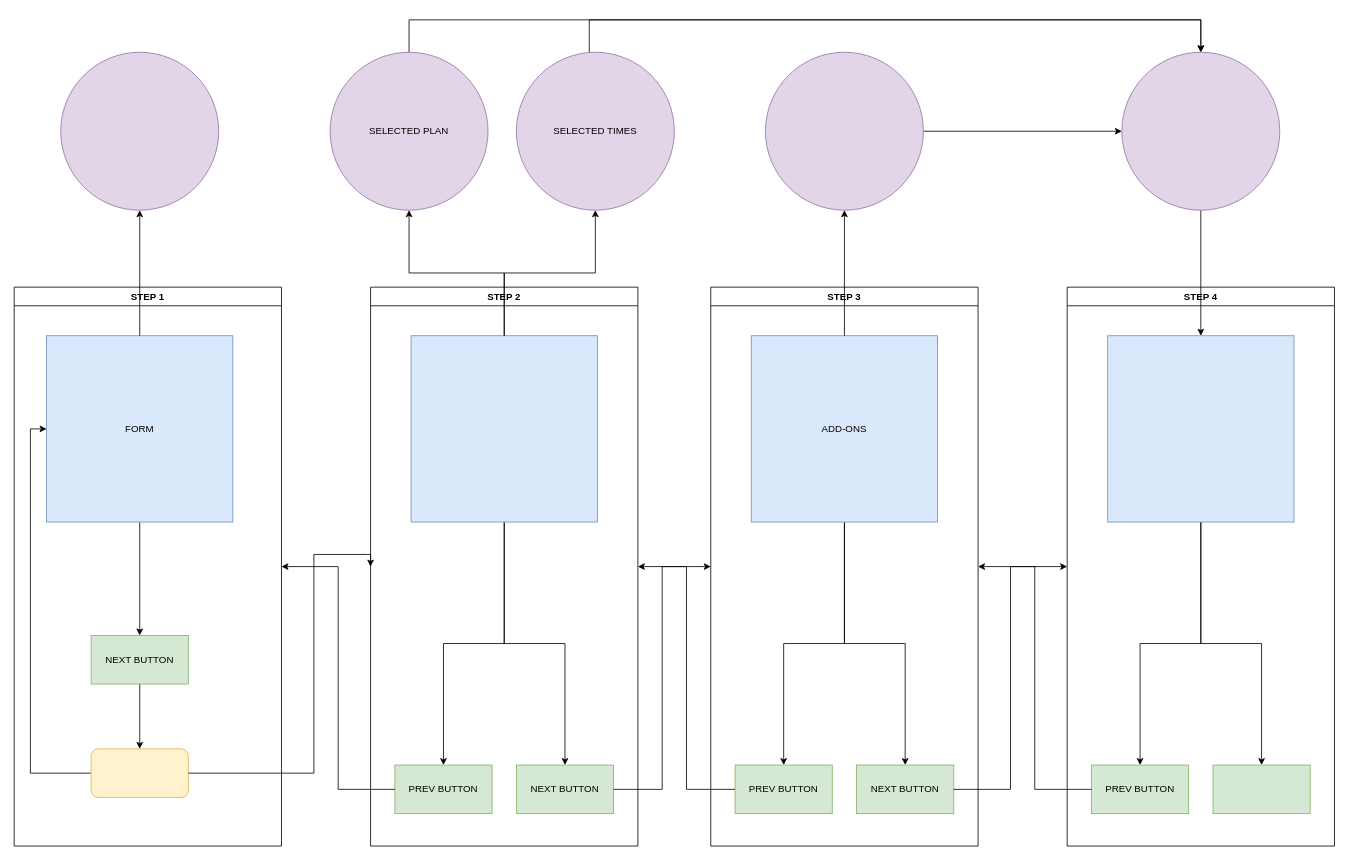
Image size: 1349x860. Some labels were removed from this diagram. Here are the shapes that lost their labels. From the top down, the centre of each, then its label:
the point at 139,130: DATA FORM
the point at 844,130: SELECTED ADD-ON
the point at 1200,130: FINAL DATA
the point at 503,428: PLAN
the point at 1200,428: FINISHING
the point at 139,772: VALIDATION FORM
the point at 1261,789: CONFIRM BUTTON
